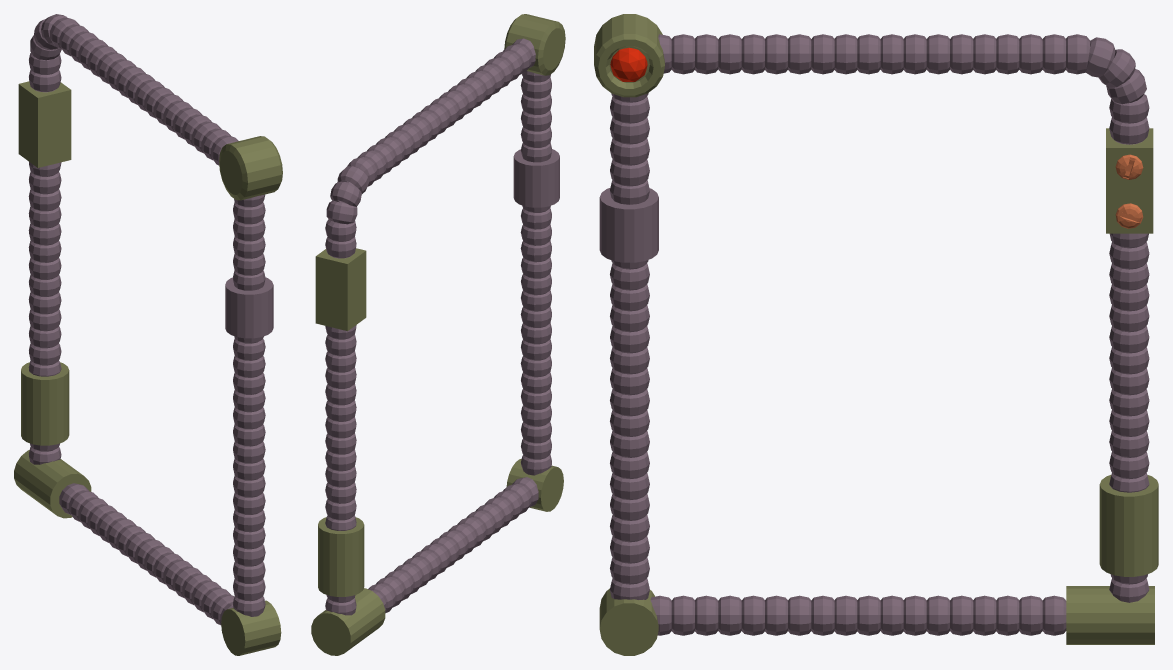
The model's file is SlotMachineFrameTest 2.fbx.
3 renders of one model, left to right at view 1: azimuth 30°, elevation 25°; view 2: azimuth 150°, elevation 25°; view 3: azimuth 270°, elevation 25°, orthographic. The views are drawn at different scales.
Visible parts, largest first — view 1: Torus.028; view 2: Torus.028; view 3: Torus.028.
Part boxes in pixels (box(x1,y1,x2,y2)): Torus.028: box(14, 14, 282, 655); Torus.028: box(311, 14, 565, 655); Torus.028: box(594, 14, 1158, 655).
Bounding box in the file's own units: 231 × 2319 × 1912.
